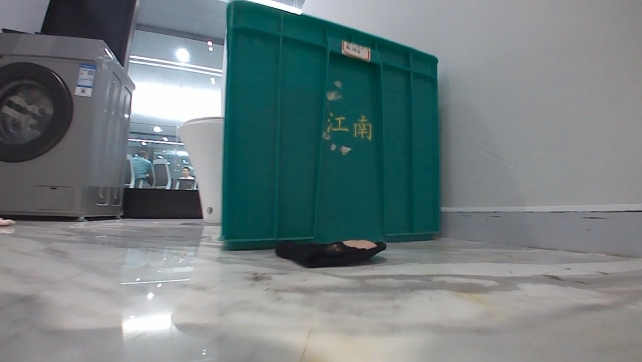socks: (273, 236, 389, 272)
toilet: (173, 113, 222, 226)
washing_machine: (0, 30, 135, 222)
